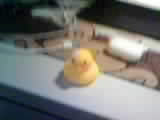duck: (62, 47, 101, 89)
